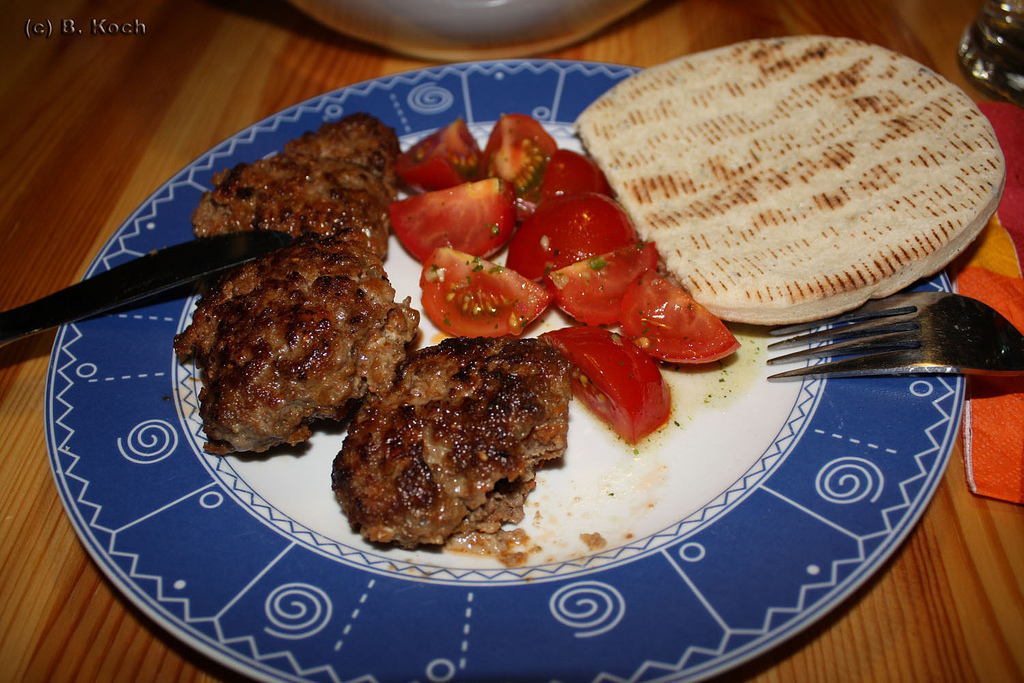meatballs: (222, 266, 388, 418), (363, 351, 509, 512)
plain rice: (591, 430, 747, 495)
slice of bread: (583, 59, 988, 279)
